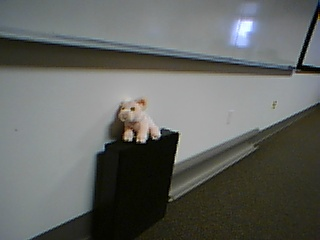piggy: (117, 96, 162, 144)
